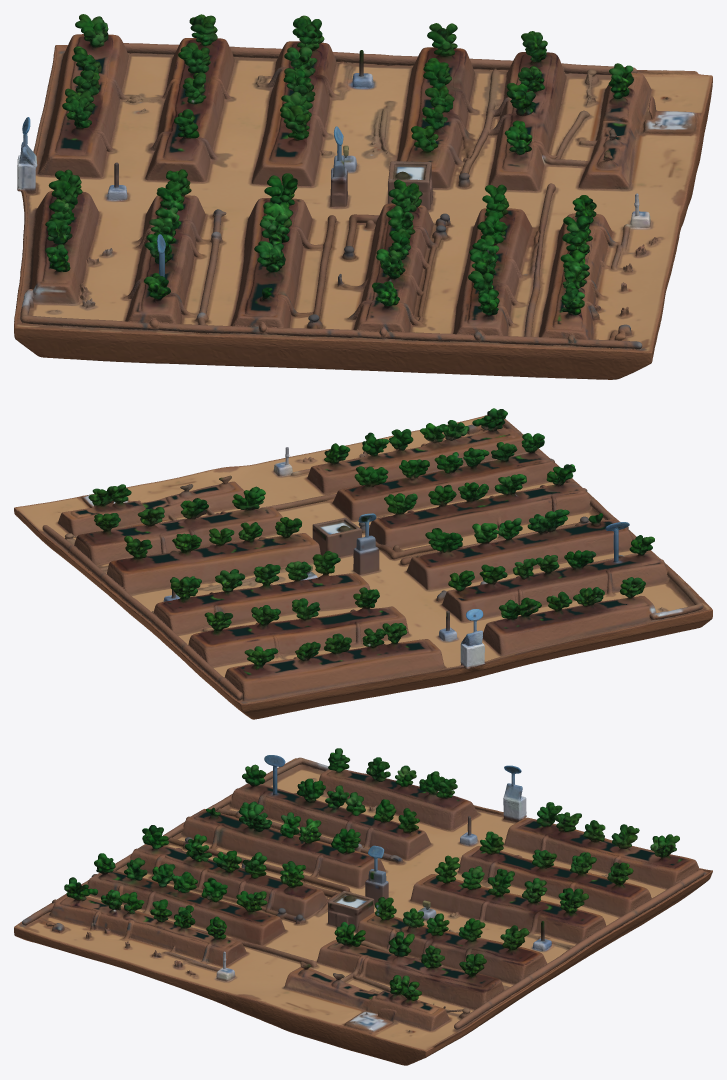
The model's file is invernadero.glb.
3 renders of one model, top to bottom at view 1: azimuth 30°, elevation 25°; view 2: azimuth 150°, elevation 25°; view 3: azimuth 270°, elevation 25°, orthographic. The views are drawn at different scales.
Bounding box in the file's own units: 1.98 × 0.2424 × 2.
1 material, 1 textured.
